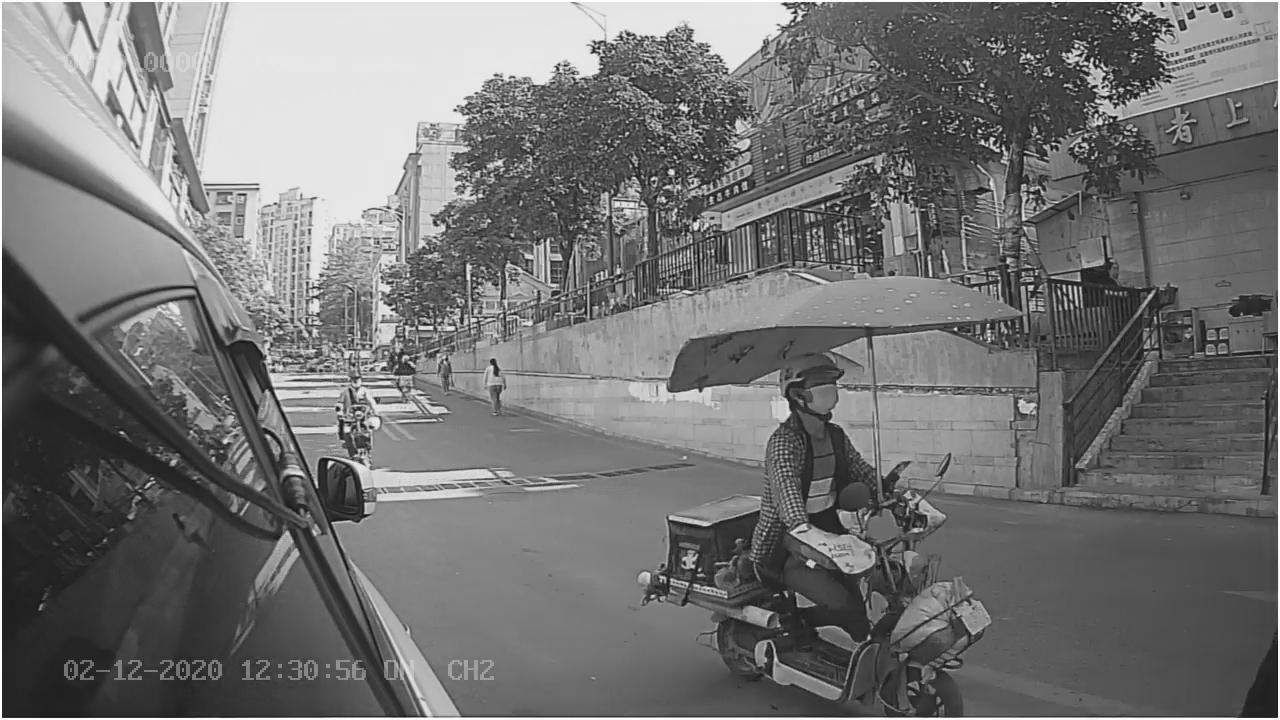person: (758, 353, 911, 538)
